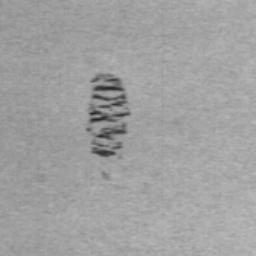Secondary rust skin: (88, 72, 133, 159)
